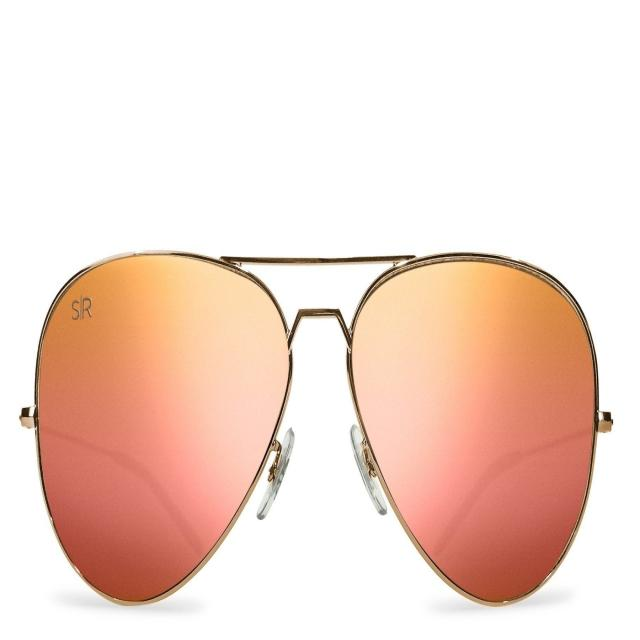suspicious-objects: (31, 236, 608, 609)
